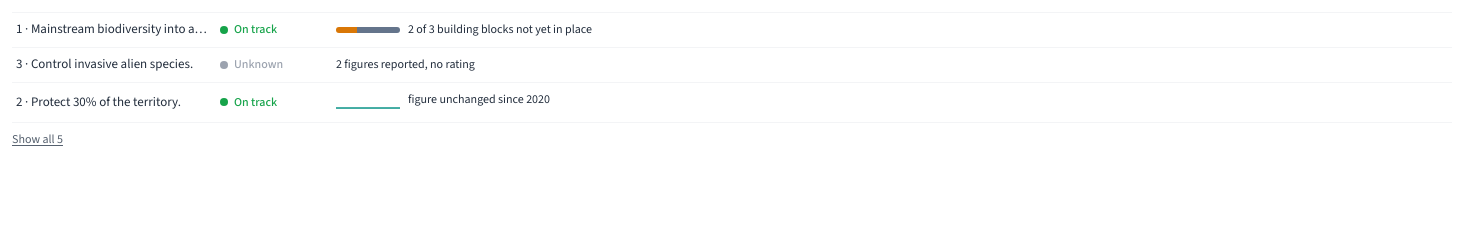
Scenario: Nr7CrossChecks › caps at the top five and reveals the rest on show all
expect the number of list items is 3: met, box [12,12,1452,47]; [12,47,1452,82]; [12,82,1452,122]
Click the button "Show all 5" at [38, 140], box [12,131,63,148]
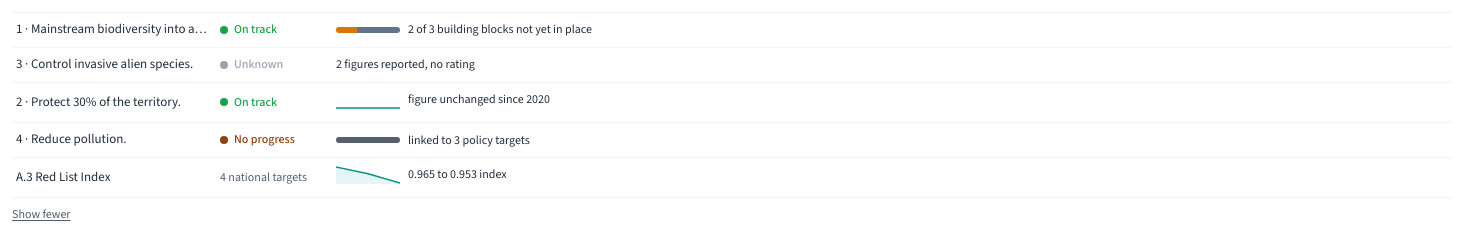
expect the number of list items is 5: met, box [12,12,1452,47]; [12,47,1452,82]; [12,82,1452,122]; [12,122,1452,157]; [12,157,1452,197]
